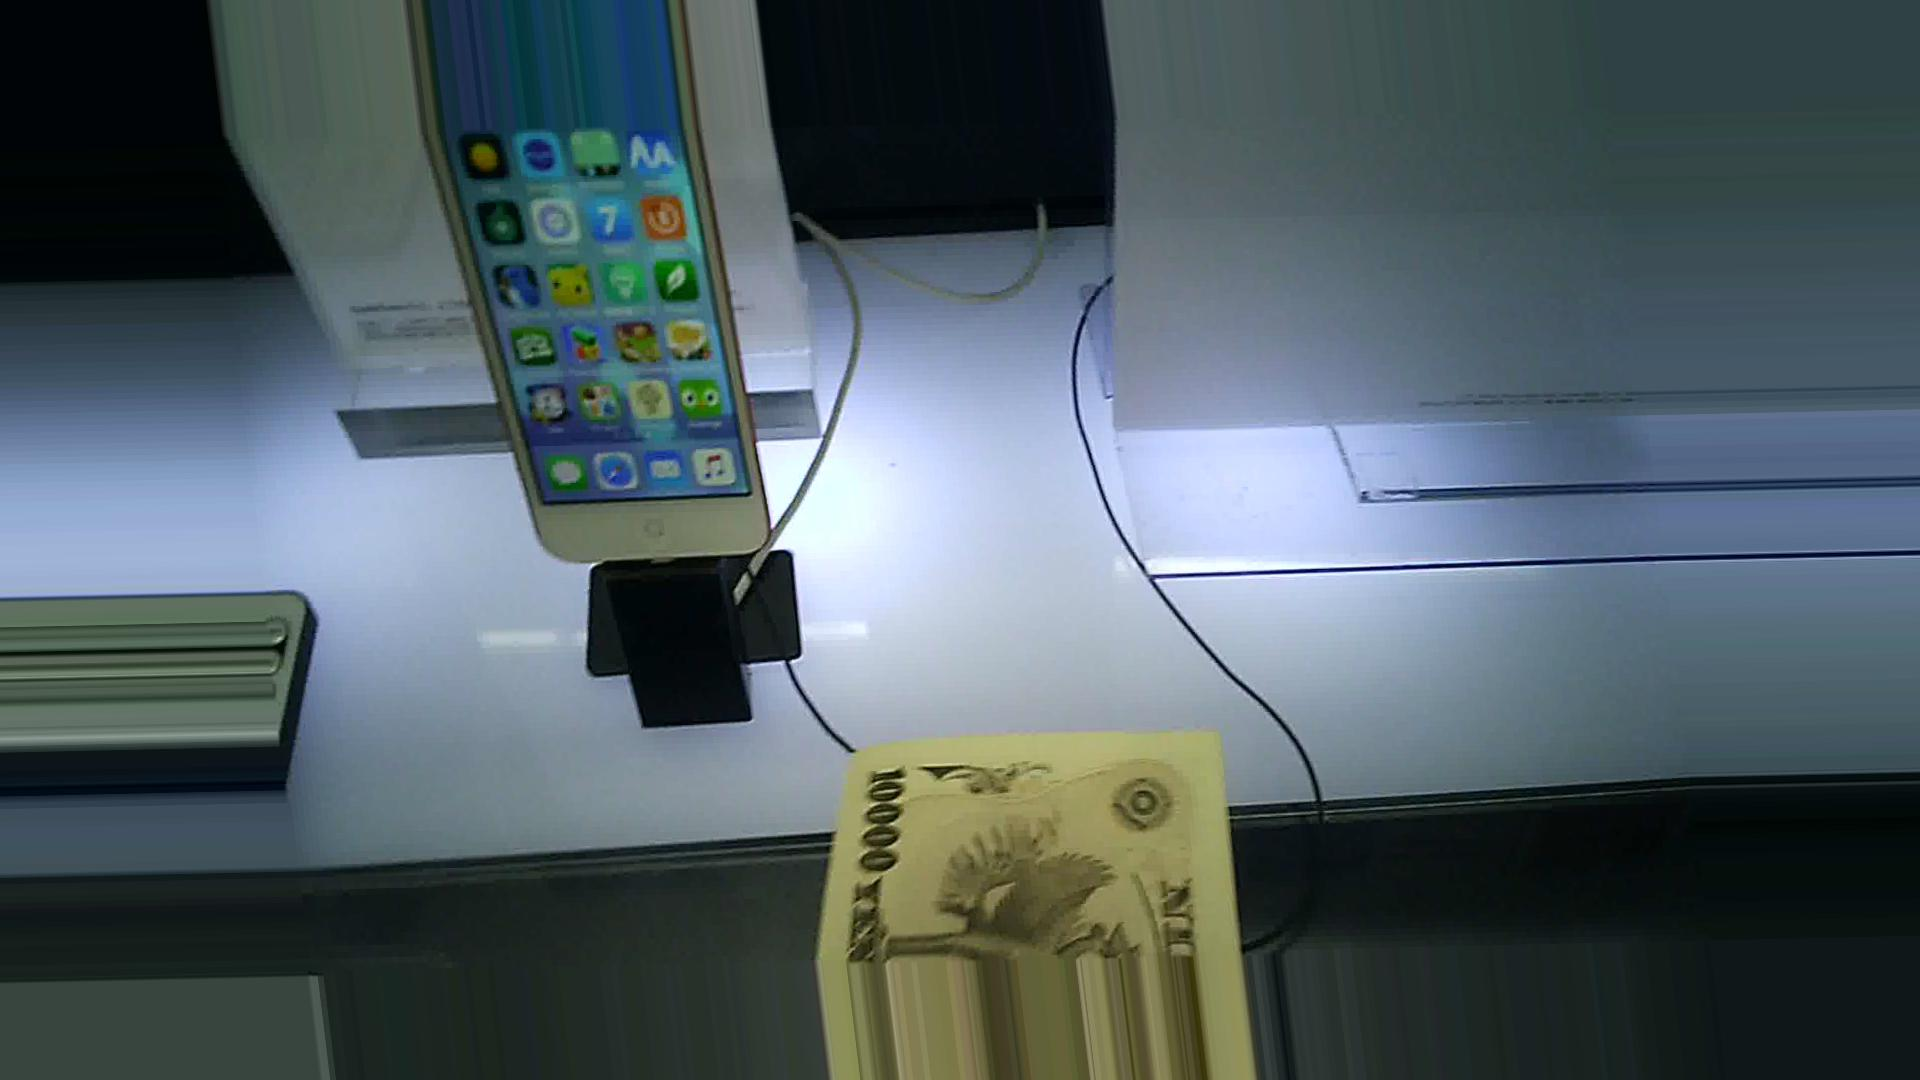10,000 Yen: (810, 733, 1255, 1036)
